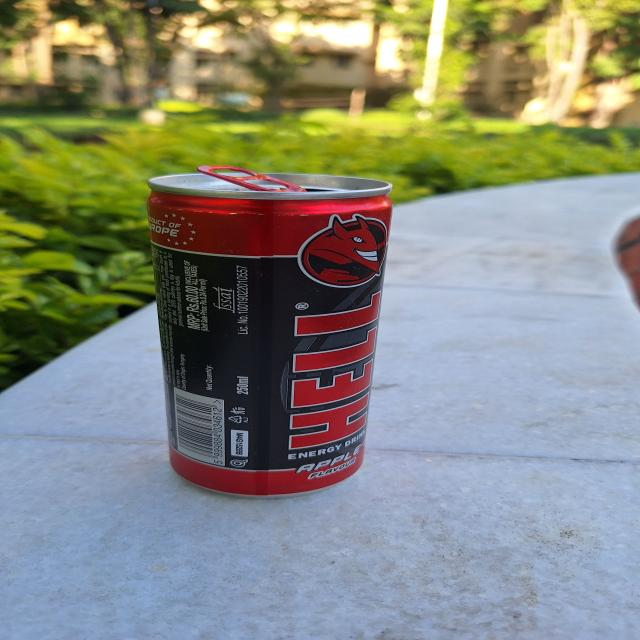Hell Apple: (134, 163, 392, 497)
